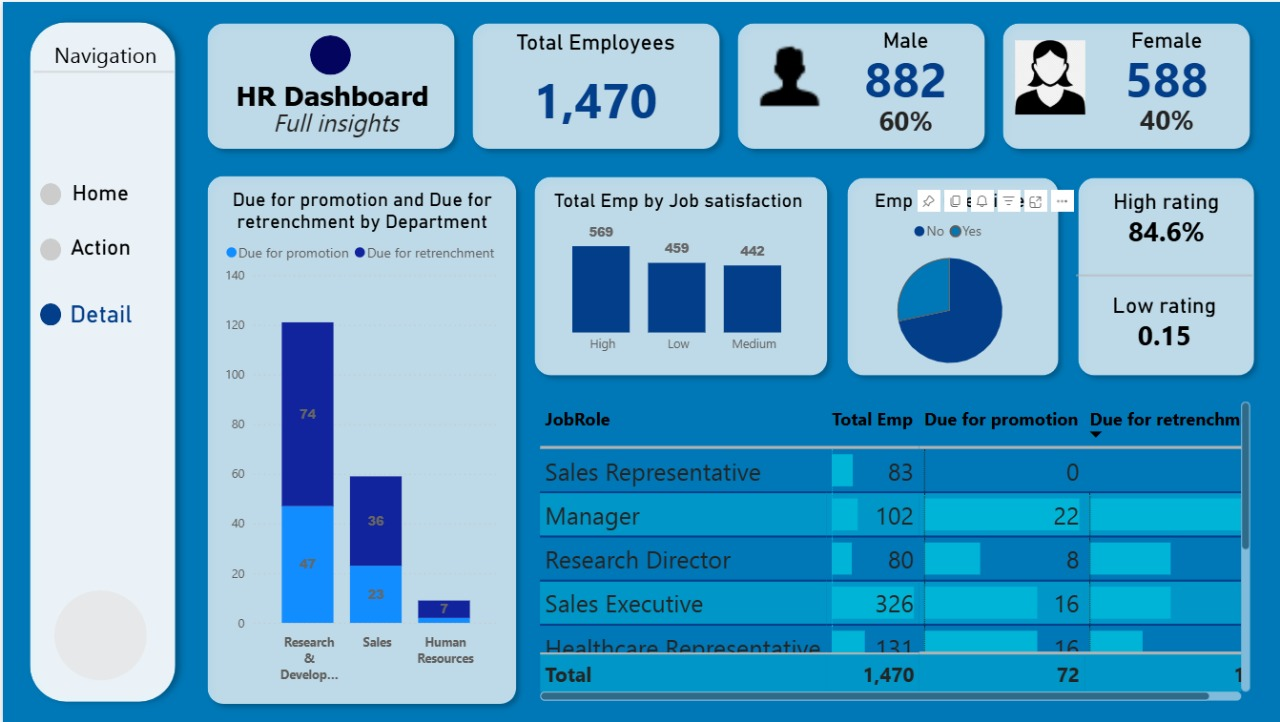

What the dashboard file says about the page in this screenshot:
{"tool":"powerbi","page":{"name":"Details","canvas":[1280,720],"ordinal":1},"visuals":[{"type":"shape","box":[16.5,9.6,166.5,699.2],"z":0},{"type":"shape","box":[195.4,12.4,264.3,143.1],"z":1000},{"type":"shape","box":[459.7,12.4,264.3,143.1],"z":2000},{"type":"shape","box":[724,12.4,264.3,143.1],"z":3000},{"type":"shape","box":[988.2,12.4,264.3,143.1],"z":4000},{"type":"shape","box":[195.2,164.4,325.9,544.6],"z":5000},{"type":"shape","box":[521.1,165.9,309.7,215.8],"z":6000},{"type":"shape","box":[833.6,166.7,228.3,215],"z":7000},{"type":"shape","box":[1063.1,166.7,193.3,215],"z":8000},{"type":"textbox","box":[209.7,71.2,238.7,51.4],"z":9000},{"type":"textbox","box":[36.9,33,130.5,51.4],"z":10000},{"type":"textbox","box":[209.7,97.6,251.9,55.4],"z":11000},{"type":"shape","box":[305.9,33,40.9,39.6],"z":12000},{"type":"card","title":"Total Employees","fields":{"Values":["All Measures.Total Emp"]},"box":[468,27.5,246.4,112.9],"z":13000},{"type":"card","title":"Male","fields":{"Values":["All Measures.Male"]},"box":[814.8,26.2,170.7,75.7],"z":14000},{"type":"card","fields":{"Values":["All Measures.Male %"]},"box":[834.1,90.8,132.1,55.1],"z":15000},{"type":"card","title":"Female","fields":{"Values":["All Measures.Female"]},"box":[1068.7,26.2,183.1,75.7],"z":16000},{"type":"card","fields":{"Values":["All Measures.Female %"]},"box":[1083.9,90.8,152.8,53.7],"z":17000},{"type":"image","box":[736.3,26.2,95,90.8],"z":18000},{"type":"image","box":[1004.7,33,79.8,84],"z":19000},{"type":"columnChart","fields":{"Category":["HR Analytics Data.Department"],"Y":["All Measures.Due for promotion","All Measures.Due for retirment"]},"box":[216.3,185.9,284.8,501.1],"z":20000},{"type":"tableEx","fields":{"Values":["HR Analytics Data.JobRole","All Measures.Total Emp","All Measures.Due for promotion","All Measures.Due for retirment"]},"box":[529.5,393.8,718.8,308.1],"z":21000},{"type":"columnChart","fields":{"Category":["HR Analytics Data.Job satisfaction"],"Y":["All Measures.Total Emp"]},"box":[532.8,186.4,281.8,173.2],"z":22000},{"type":"pieChart","title":"Emp by OverTime","fields":{"Category":["HR Analytics Data.OverTime"],"Y":["All Measures.Total Emp"]},"box":[820.3,186,248.9,192.1],"z":23000},{"type":"card","title":"High rating","fields":{"Values":["All Measures.% High emp rating"]},"box":[1066.7,186,186,61.6],"z":24000},{"type":"card","title":"Low rating","fields":{"Values":["All Measures.% Low emp rating"]},"box":[1065.5,289.9,186,61.6],"z":25000},{"type":"shape","box":[1070.1,265.7,176.1,14.7],"z":26000},{"type":"shape","box":[36.9,300.7,21.1,22.4],"z":27000},{"type":"actionButton","title":"Detail","box":[28.3,297.8,139.1,34.5],"z":28000},{"type":"shape","box":[36.9,236,21.1,22.4],"z":29000},{"type":"actionButton","title":"Action","box":[27.7,232.1,139.8,58],"z":30000},{"type":"shape","box":[36.9,180.7,21.1,22.4],"z":31000},{"type":"actionButton","title":"Home","box":[27.7,178,139.8,54.1],"z":32000},{"type":"shape","box":[51.4,586.8,92.3,89.7],"z":33000},{"type":"shape","box":[30.2,61.6,140.1,15.7],"z":34000}]}

Visuals, with their boxes on the page's 1280x720 design canvas (x1, y1, x2, y2). These are canvas units, not pixel positions in the 1280x722 screenshot, which may show the page scaled, cropped or inside an application window:
shape: l=16, t=10, r=183, b=709
shape: l=195, t=12, r=460, b=156
shape: l=460, t=12, r=724, b=156
shape: l=724, t=12, r=988, b=156
shape: l=988, t=12, r=1252, b=156
shape: l=195, t=164, r=521, b=709
shape: l=521, t=166, r=831, b=382
shape: l=834, t=167, r=1062, b=382
shape: l=1063, t=167, r=1256, b=382
textbox: l=210, t=71, r=448, b=123
textbox: l=37, t=33, r=167, b=84
textbox: l=210, t=98, r=462, b=153
shape: l=306, t=33, r=347, b=73
"Total Employees" card: l=468, t=28, r=714, b=140
"Male" card: l=815, t=26, r=986, b=102
card - All Measures.Male %: l=834, t=91, r=966, b=146
"Female" card: l=1069, t=26, r=1252, b=102
card - All Measures.Female %: l=1084, t=91, r=1237, b=144
image: l=736, t=26, r=831, b=117
image: l=1005, t=33, r=1084, b=117
columnChart - HR Analytics Data.Department x All Measures.Due for promotion: l=216, t=186, r=501, b=687
tableEx - HR Analytics Data.JobRole x All Measures.Total Emp: l=530, t=394, r=1248, b=702
columnChart - HR Analytics Data.Job satisfaction x All Measures.Total Emp: l=533, t=186, r=815, b=360
"Emp by OverTime" pieChart: l=820, t=186, r=1069, b=378
"High rating" card: l=1067, t=186, r=1253, b=248
"Low rating" card: l=1066, t=290, r=1252, b=352
shape: l=1070, t=266, r=1246, b=280
shape: l=37, t=301, r=58, b=323
"Detail" actionButton: l=28, t=298, r=167, b=332
shape: l=37, t=236, r=58, b=258
"Action" actionButton: l=28, t=232, r=168, b=290
shape: l=37, t=181, r=58, b=203
"Home" actionButton: l=28, t=178, r=168, b=232
shape: l=51, t=587, r=144, b=676
shape: l=30, t=62, r=170, b=77
